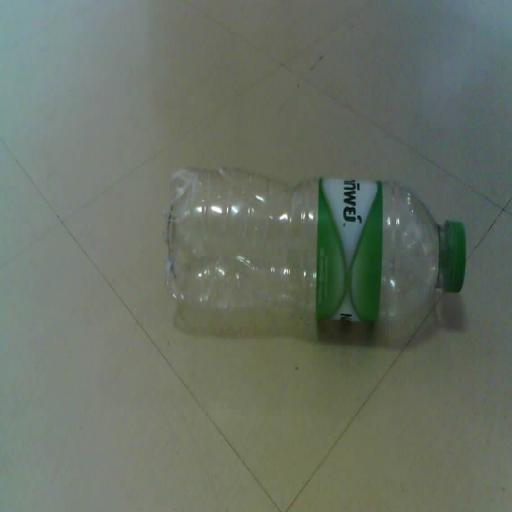bottle: (114, 138, 492, 357)
